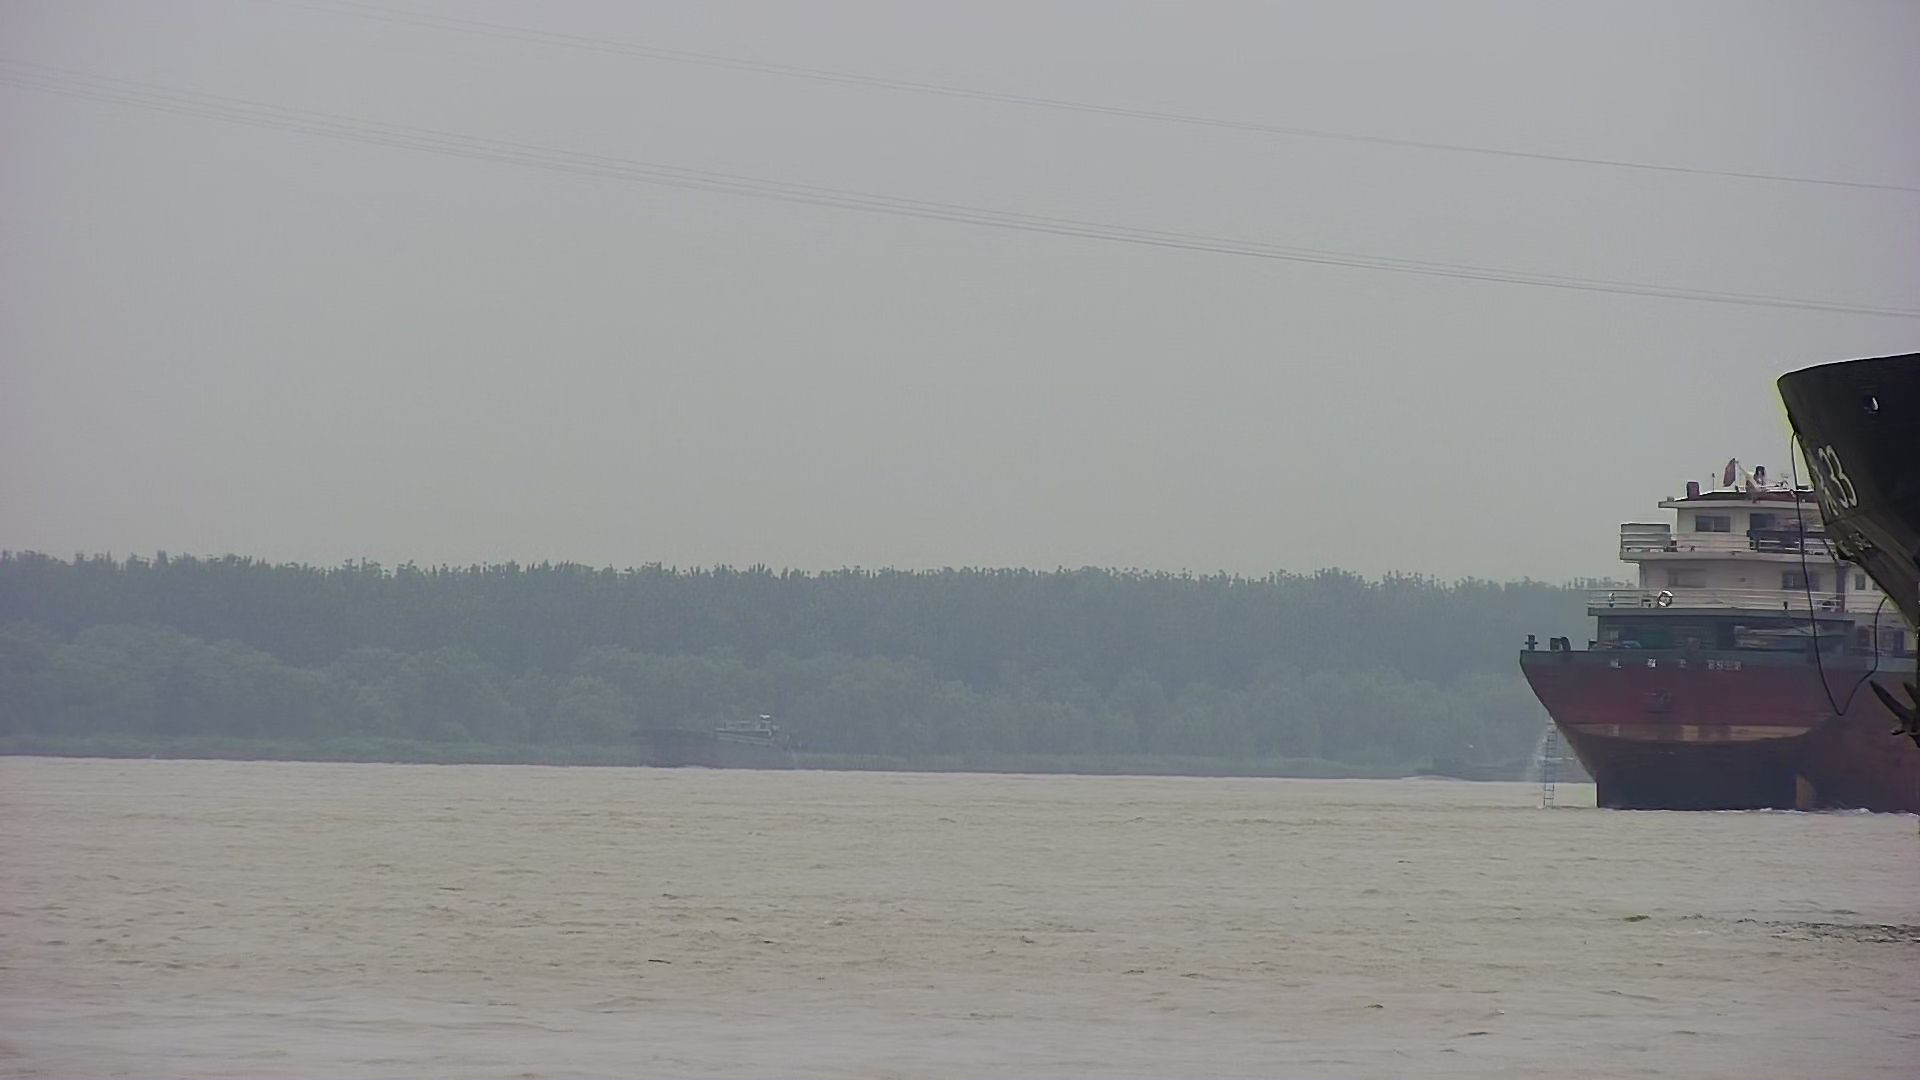ship: (1524, 462, 1917, 818), (1776, 349, 1920, 741), (633, 708, 807, 767)
